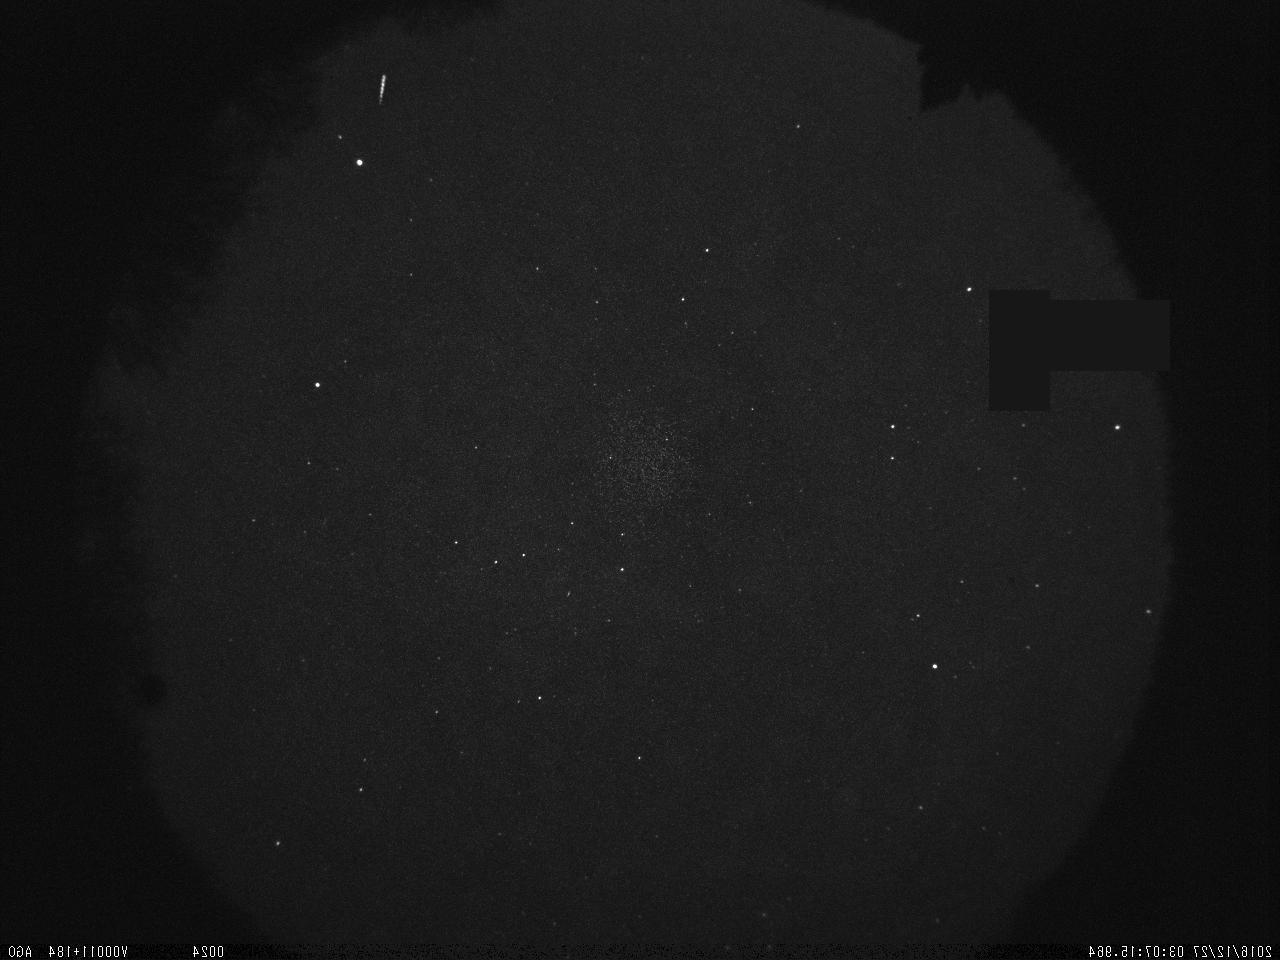meteor: (365, 68, 400, 109)
